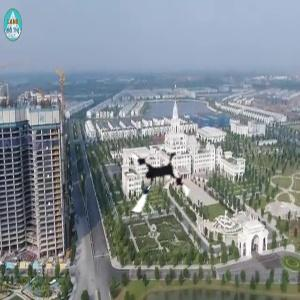drone: (117, 143, 196, 222)
